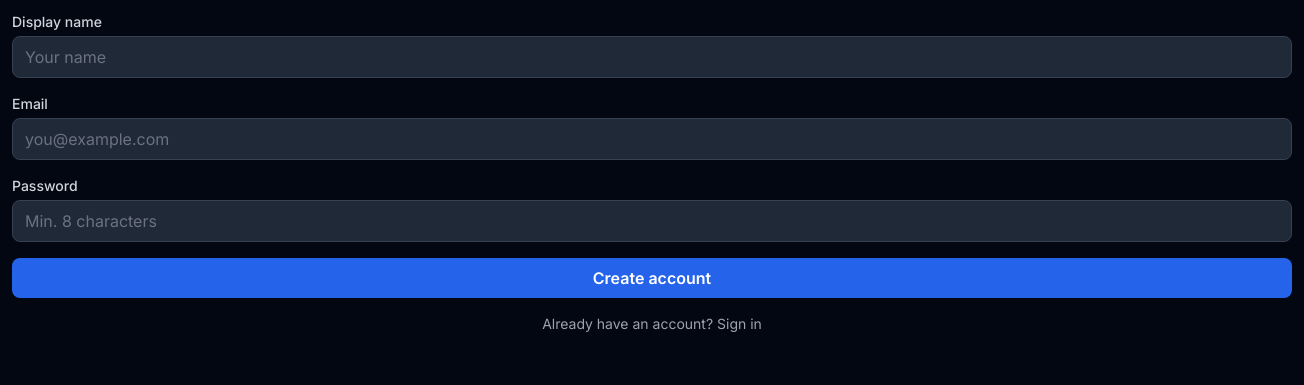
Test: RegisterForm › shows server error on registration failure
Step 1. Type "Alice" into the field with placeholder "Your name" → (652, 57), box [12,36,1292,78]
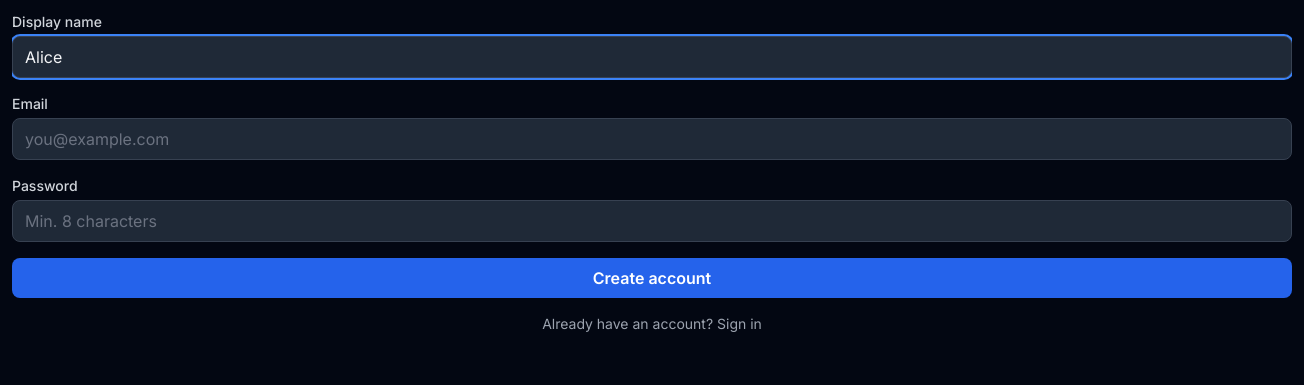
Step 2. Type "alice@example.com" into the field with placeholder "you@example.com" → (652, 139), box [12,118,1292,160]
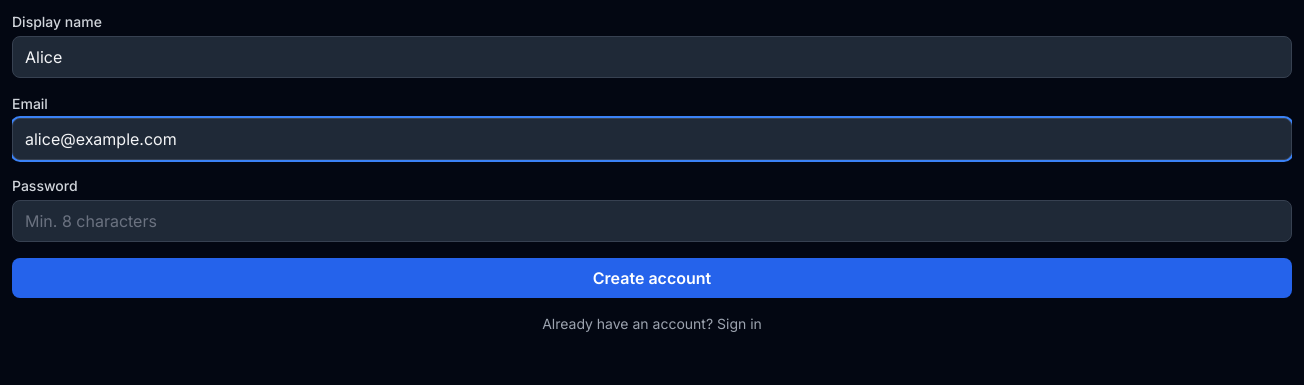
Step 3. Type "Password1!" into the password field with placeholder "Min. 8 characters" → (652, 221), box [12,200,1292,242]
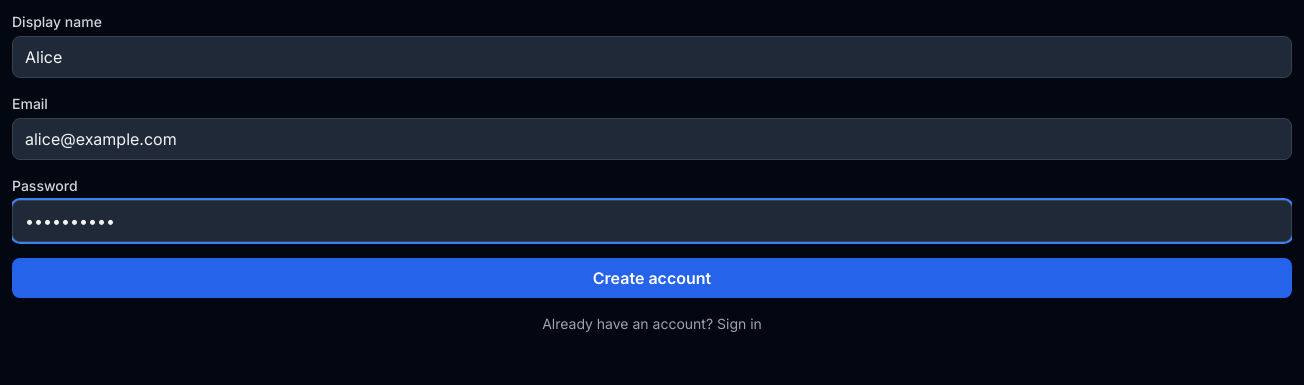
Step 4. Click the button "Create account" → click(652, 278), box [12,258,1292,298]
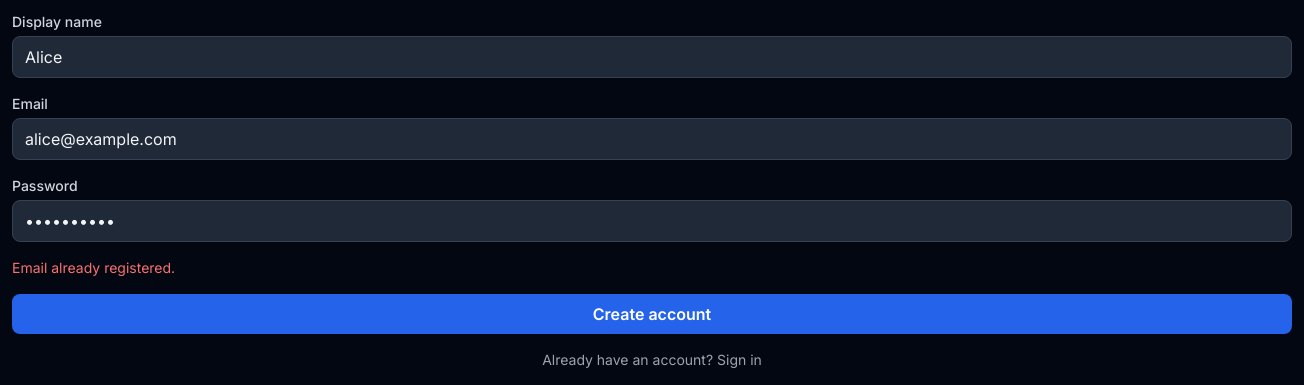
Now the message reads "Email already registered.", box [12,259,175,276]
